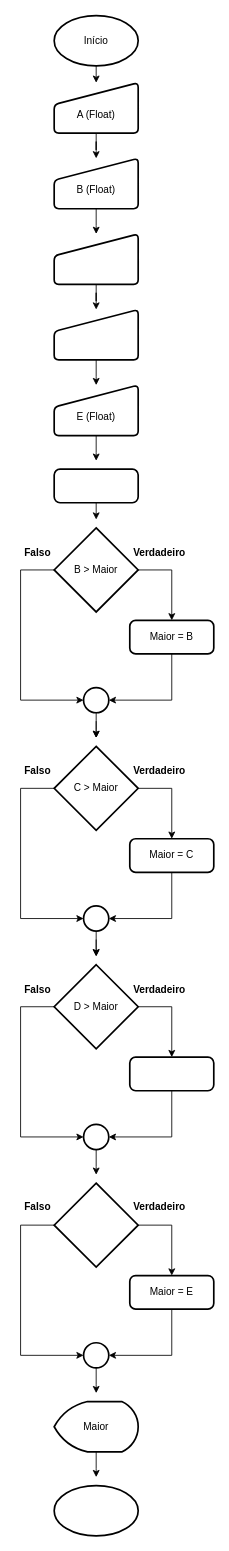
The diagram is 229 pixels wide and 1551 high, and some of its shapes have lost their labels. Each missing label, with the centre of its shape:
"C (Float)" belongs at point (96, 259).
"D (Float)" belongs at point (96, 334).
"E > Maior" belongs at point (96, 1225).
"Fim" belongs at point (96, 1510).
"Maior = A" belongs at point (96, 485).
"Maior = D" belongs at point (171, 1073).
